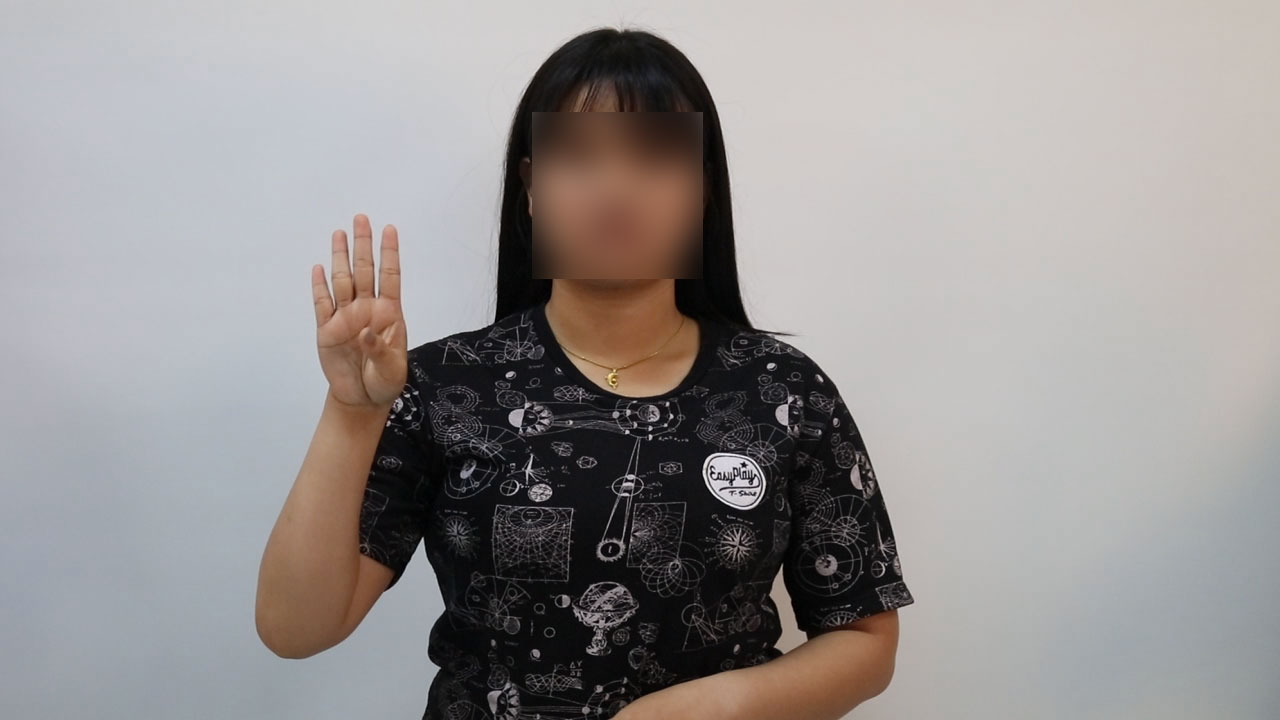bor: (295, 202, 422, 436)
